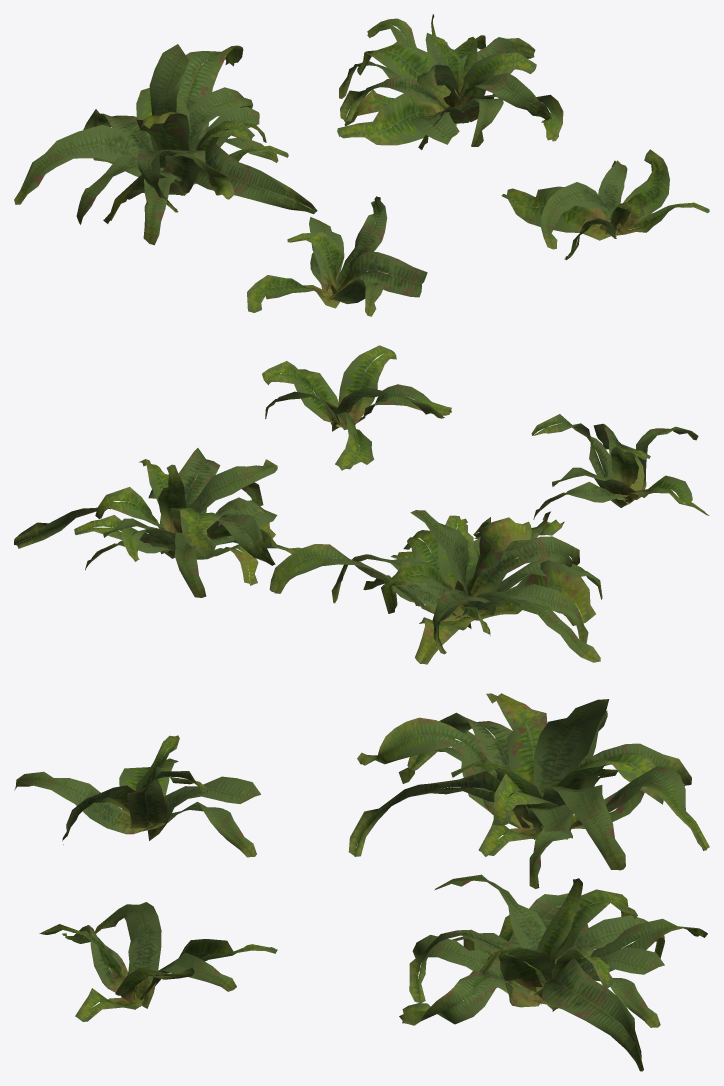
The model's file is ph-fern_02.glb.
3 renders of one model, top to bottom at view 1: azimuth 30°, elevation 25°; view 2: azimuth 150°, elevation 25°; view 3: azimuth 270°, elevation 25°, orthographic. The views are drawn at different scales.
Visible parts, largest first — view 1: fern_02; view 2: fern_02; view 3: fern_02.
Part boxes in pixels (left/top/right/bottom): fern_02: left=14, top=14, right=709, bottom=316; fern_02: left=14, top=345, right=709, bottom=664; fern_02: left=14, top=693, right=709, bottom=1071.
Size of the model in its own units: 1.97 by 0.4261 by 1.72.
Materials: 1 (1 with a texture image).
